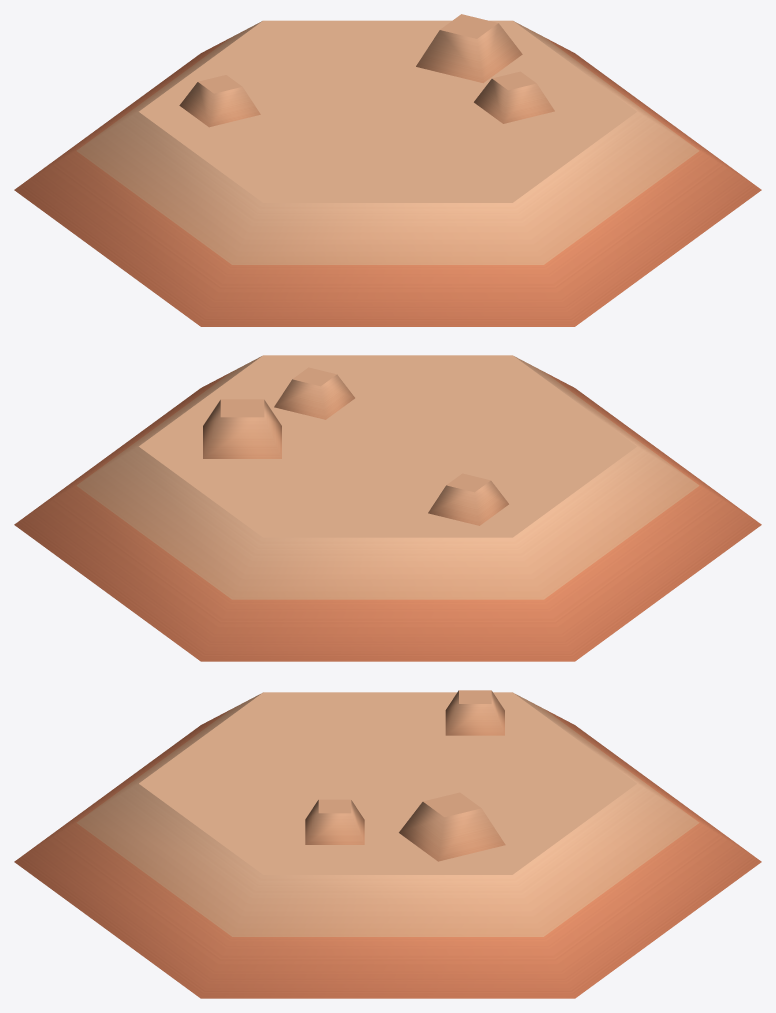
Rendered from dirt_hill.fbx.
The picture shows the model from 3 angles, top to bottom: view 1: azimuth 30°, elevation 25°; view 2: azimuth 150°, elevation 25°; view 3: azimuth 270°, elevation 25°; orthographic projection.
Parts seen in each view (by area): view 1: water_island; view 2: water_island; view 3: water_island.
Boxes of the visible parts, <box> form: water_island: <box>14,14,761,326</box>; water_island: <box>14,355,761,661</box>; water_island: <box>14,690,761,998</box>.
Bounding box in the file's own units: 75 × 14.35 × 86.6.
